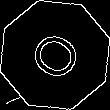O_SE: (23, 24, 87, 86)
